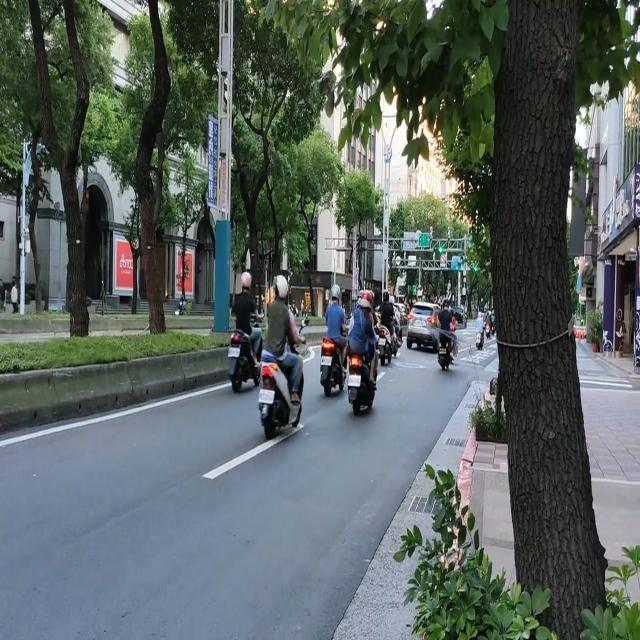Helmet: (271, 271, 291, 302), (357, 288, 375, 310), (238, 268, 254, 290), (328, 282, 343, 302), (439, 298, 451, 311), (382, 290, 391, 302)
bike: (257, 318, 310, 439), (226, 302, 264, 391), (344, 335, 382, 412), (319, 318, 351, 396), (376, 313, 403, 366), (435, 320, 458, 372)
rider: (262, 272, 305, 404), (348, 288, 378, 386), (235, 270, 263, 365), (325, 281, 349, 373), (438, 298, 458, 352), (380, 290, 397, 342)
